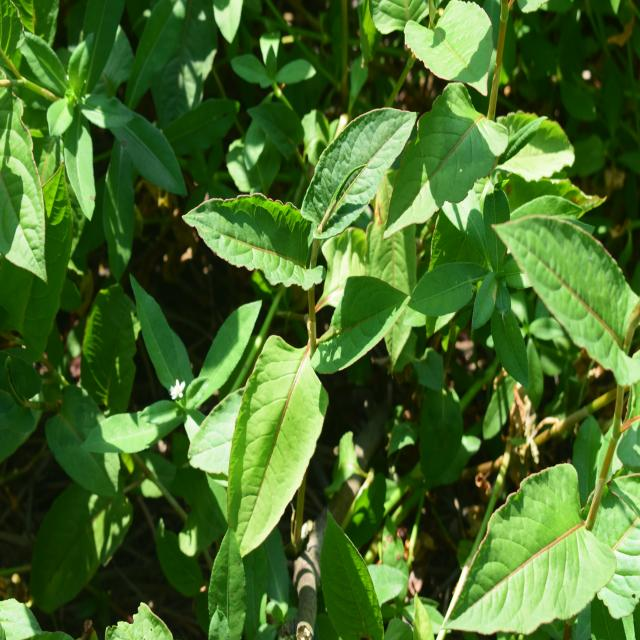Chinese_knotweed: (188, 108, 409, 516)
